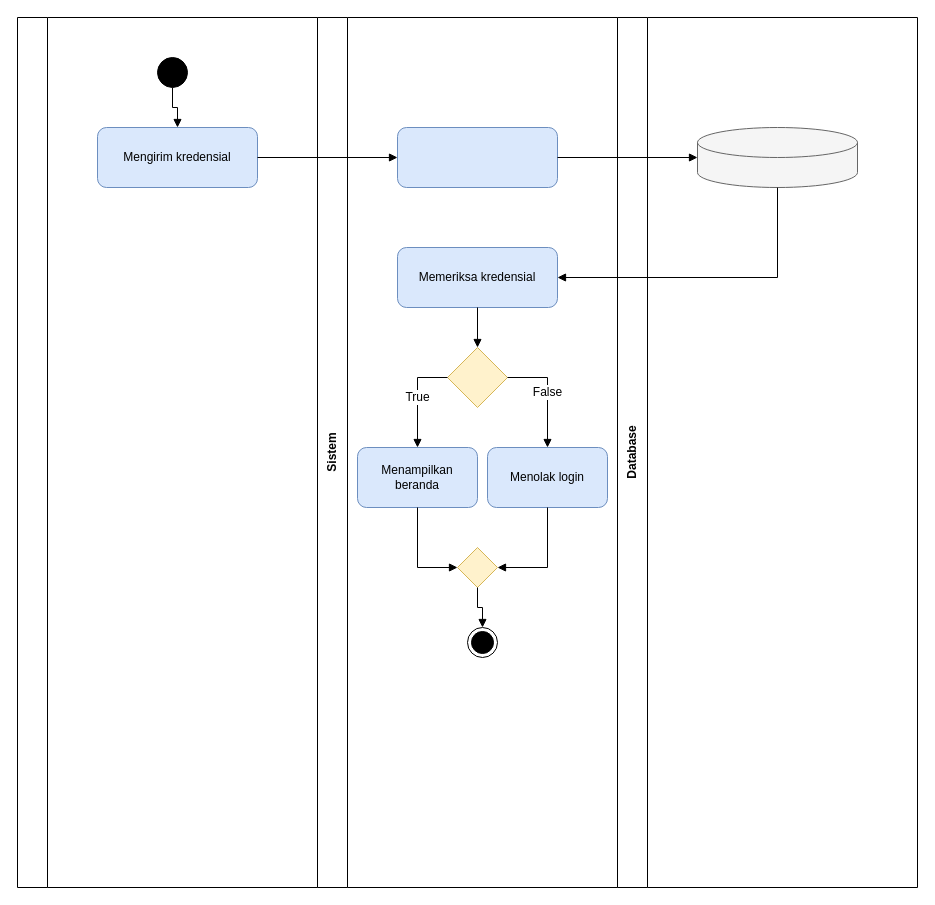
Some shapes in this 935 by 905 pixel diagram are drawn without their labels. The shapes that lost their labels are listed below. From the top down, each one's box as (x1, y1, x2, y2) in pixels, then its label:
(396, 126, 558, 188): Meminta data akun
(696, 126, 858, 188): Membaca data akun
(16, 16, 318, 888): Aktor
